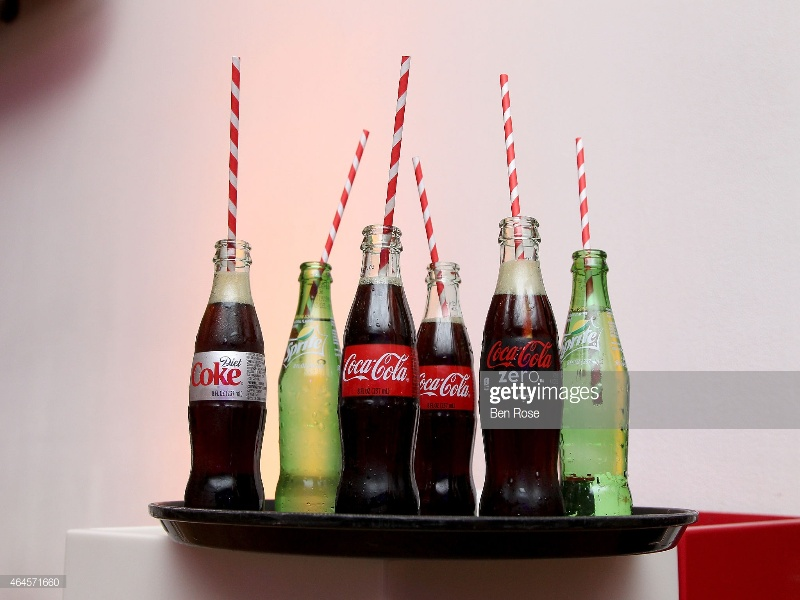coke-glass-bottle: (330, 223, 419, 512), (480, 217, 563, 517), (176, 240, 266, 511), (412, 252, 480, 517)
